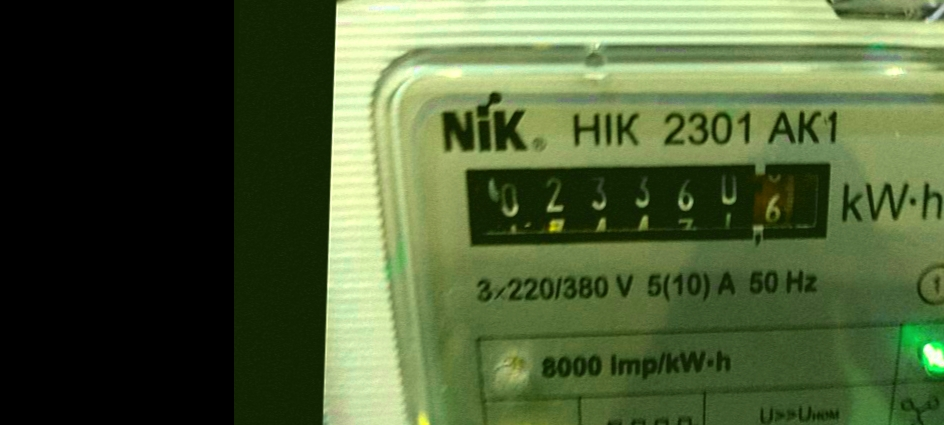0: (496, 177, 523, 220), (717, 169, 741, 207)
2: (541, 173, 568, 213)
3: (588, 172, 610, 213), (630, 171, 653, 210)
6: (672, 173, 699, 215), (763, 190, 785, 226)
screen: (441, 136, 846, 267)
